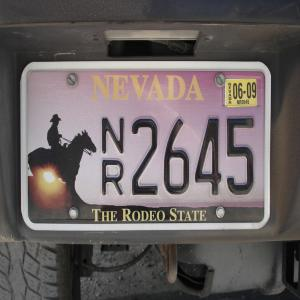Vehicle-registration-plate: (26, 52, 275, 249)
